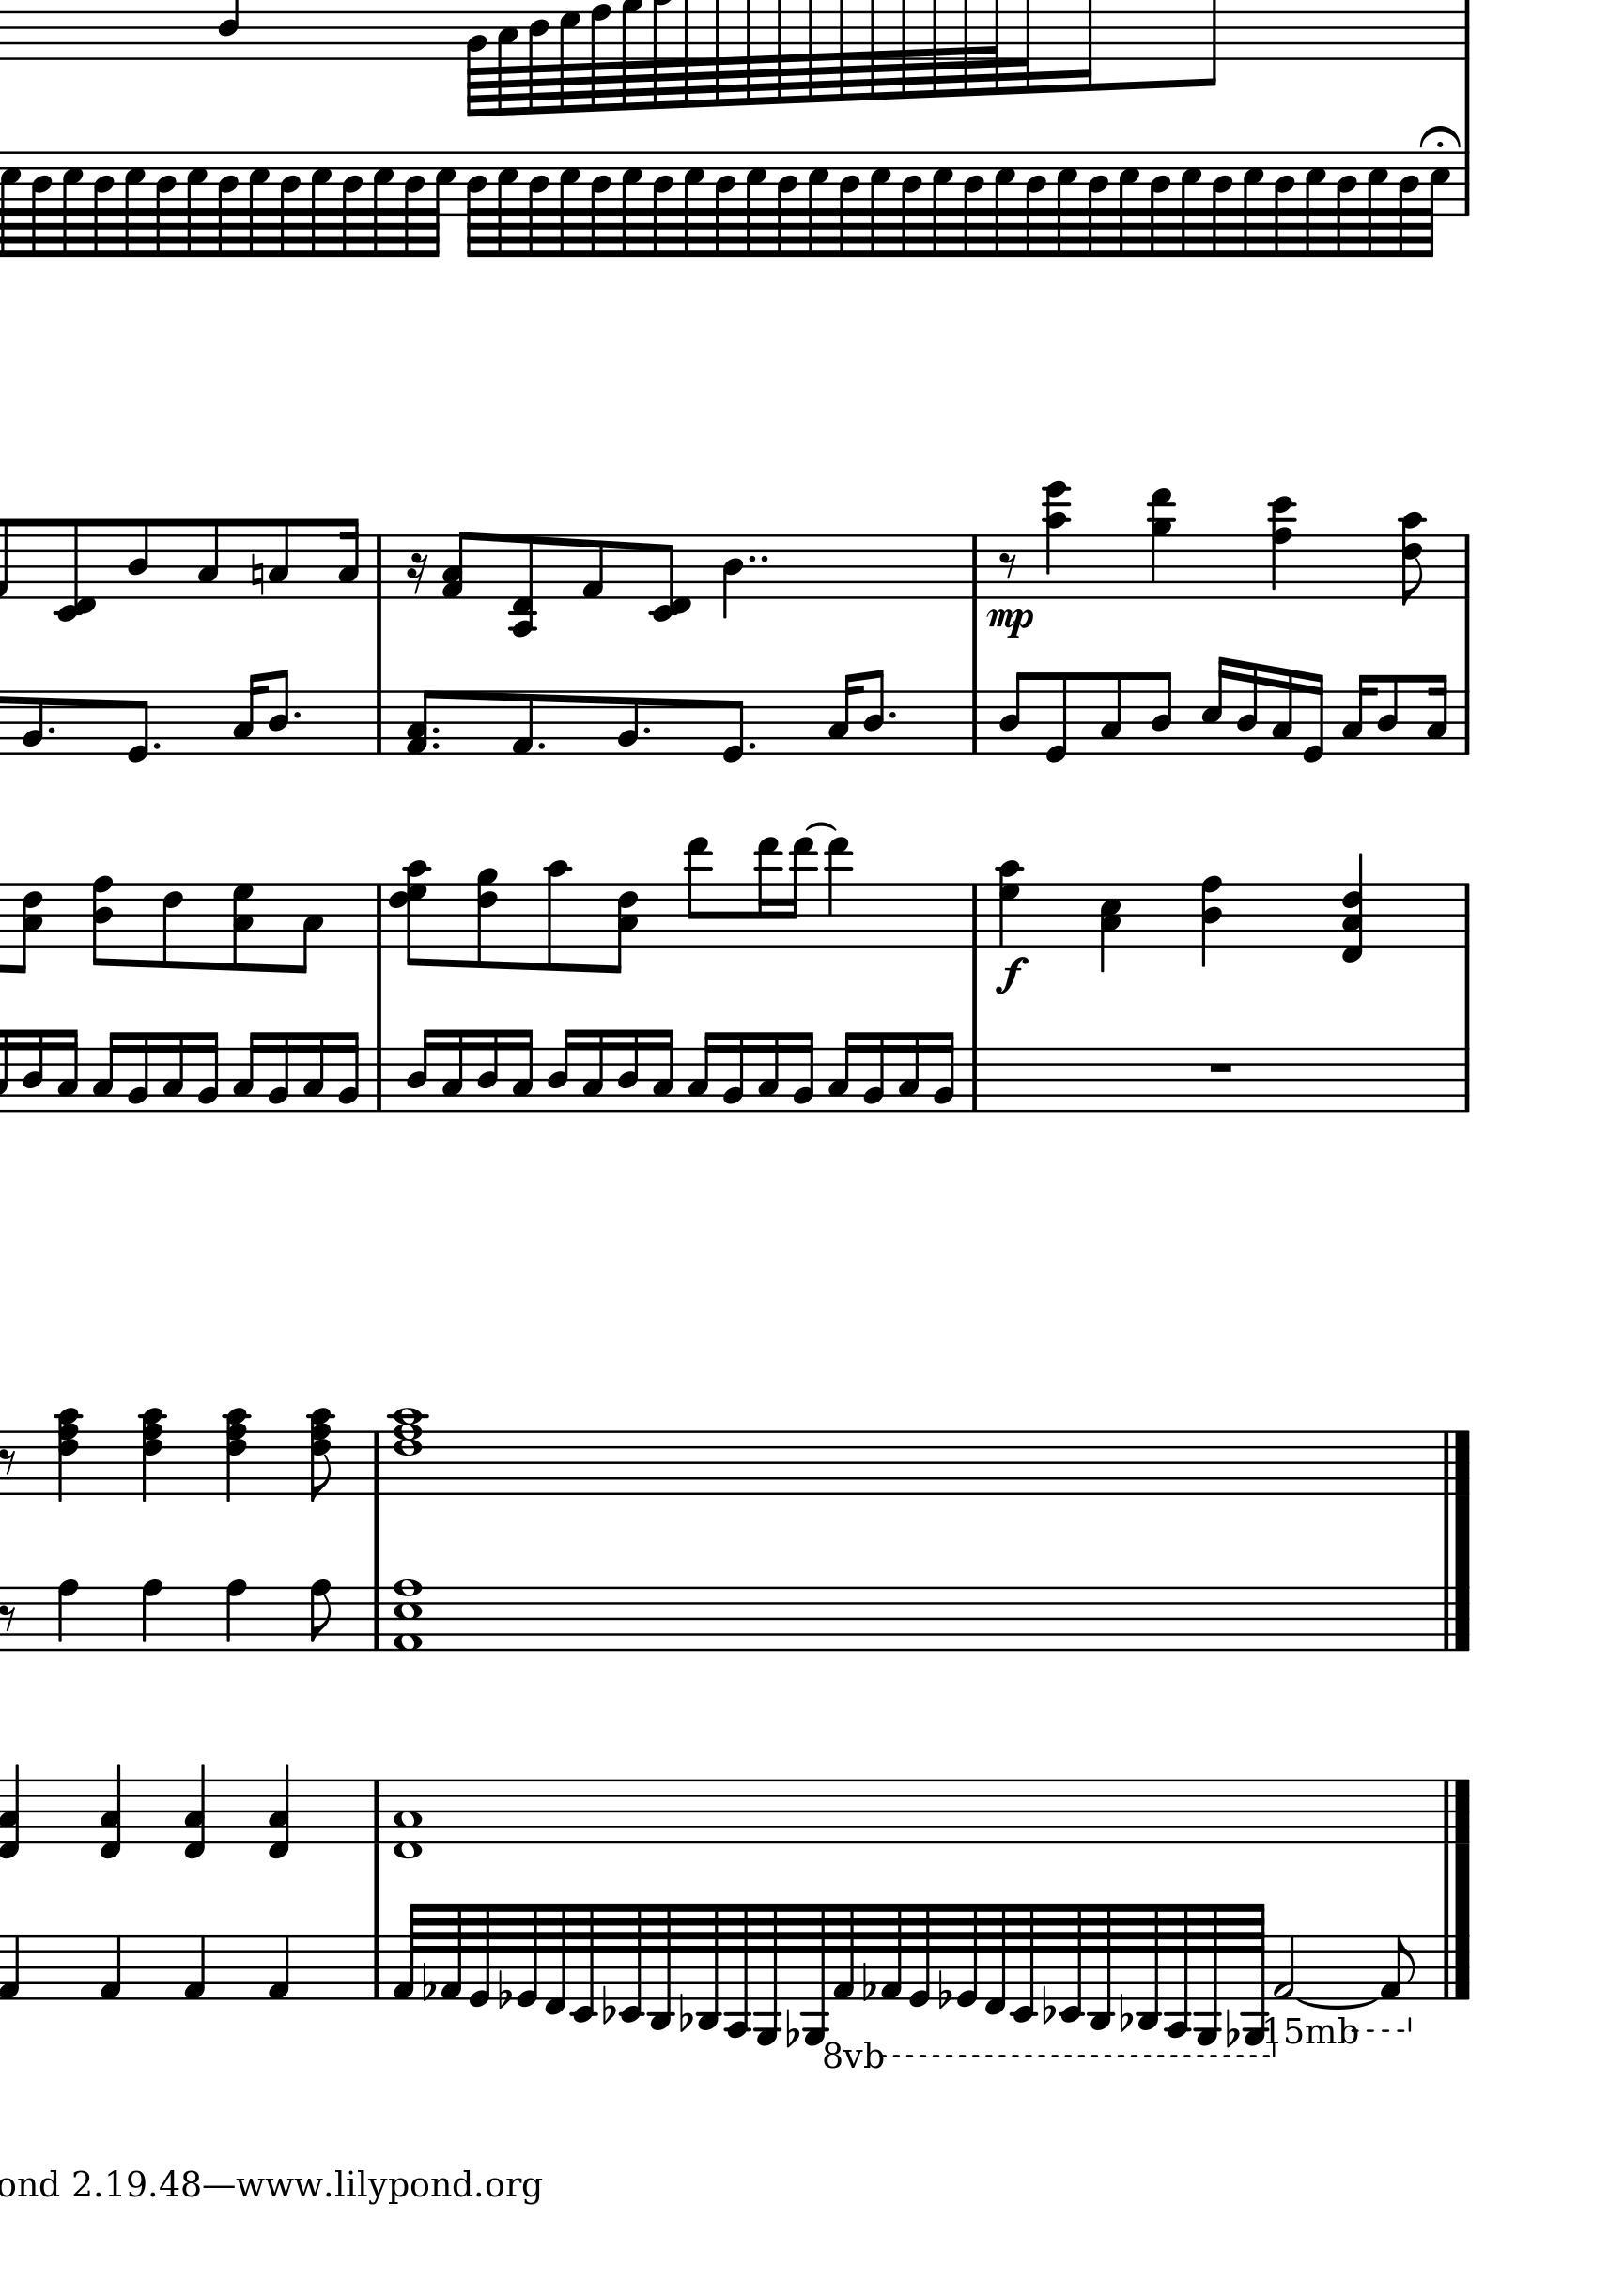16_0: (1299, 669, 1325, 768)
16_13: (784, 836, 814, 950), (684, 833, 712, 949), (752, 833, 780, 949)
16_2: (719, 1029, 745, 1114), (336, 1029, 360, 1116), (789, 1029, 814, 1116), (125, 1029, 149, 1114), (195, 1029, 220, 1114), (265, 1029, 290, 1114), (932, 1029, 954, 1116), (861, 1029, 884, 1114)
16_3: (824, 671, 863, 755), (228, 671, 265, 755), (1339, 671, 1376, 755), (824, 1028, 856, 1114), (228, 1029, 260, 1112), (90, 1029, 120, 1114), (685, 1029, 715, 1112), (508, 1028, 534, 1116), (1269, 664, 1294, 757), (754, 1029, 780, 1114), (439, 1026, 464, 1114), (1424, 671, 1448, 757), (53, 1028, 77, 1114), (580, 1028, 605, 1114), (649, 1028, 673, 1114), (160, 1029, 185, 1114), (896, 1029, 921, 1114), (299, 1029, 323, 1112), (336, 516, 359, 601)
16_4: (402, 1026, 434, 1114), (545, 1026, 575, 1112), (1236, 659, 1258, 757), (475, 1026, 499, 1114), (615, 1026, 640, 1114), (21, 1026, 44, 1114)
16_5: (1199, 655, 1230, 755)
1_-1_3: (390, 1776, 425, 1859)
1_th: (387, 1405, 427, 1497), (390, 1578, 424, 1651)
2_1: (1272, 1936, 1294, 1999)
4_-1_3: (97, 1762, 125, 1860), (181, 1760, 209, 1859), (265, 1760, 294, 1859), (2, 1760, 23, 1860)
4_1: (264, 1934, 290, 2003), (181, 1934, 206, 2003), (97, 1934, 121, 2001), (2, 1934, 21, 2001)
4_10_14: (1040, 480, 1070, 601)
4_13: (823, 834, 851, 949)
4_3_5: (1098, 882, 1123, 975)
4_4: (719, 534, 742, 622)
4_4_8: (1200, 875, 1223, 968)
4_6_10: (1397, 509, 1427, 606)
4_7_12: (995, 857, 1025, 950)
4_8: (54, 1578, 79, 1653), (223, 1578, 248, 1653), (139, 1578, 162, 1653)
4_8_12: (1267, 495, 1297, 603)
4_9_13: (1148, 485, 1178, 601)
4_th: (1339, 852, 1366, 966), (51, 1405, 81, 1502), (137, 1405, 165, 1502), (221, 1405, 250, 1502)
64_-1: (545, 1904, 566, 2015), (984, 1903, 1005, 2013)
64_-2: (617, 1901, 645, 2022), (1007, 1901, 1035, 2022), (1056, 1901, 1084, 2022), (569, 1904, 598, 2024)
64_-3: (645, 1903, 675, 2031), (692, 1903, 722, 2031), (1084, 1901, 1114, 2029), (1132, 1903, 1162, 2031)
64_-4: (724, 1904, 752, 2040), (1164, 1904, 1192, 2040)
64_-5: (1237, 1901, 1267, 2045), (752, 1904, 782, 2047), (800, 1904, 830, 2047), (1192, 1901, 1220, 2045)
64_0: (515, 1903, 538, 2006), (907, 1903, 930, 2006), (954, 1903, 977, 2006), (468, 1904, 490, 2006)
64_1: (392, 1901, 420, 2001), (881, 1903, 903, 1999), (441, 1904, 462, 2001), (833, 1904, 854, 2001)
64_4: (91, 151, 114, 260), (278, 151, 301, 260), (650, 151, 673, 260), (837, 151, 859, 260), (898, 151, 921, 260), (961, 151, 984, 260), (1023, 151, 1046, 260), (1209, 151, 1232, 260), (153, 151, 176, 258), (339, 151, 362, 256), (464, 151, 487, 256), (526, 151, 548, 256), (712, 151, 735, 256), (1084, 151, 1107, 256), (1271, 151, 1294, 256), (1334, 151, 1357, 256), (216, 151, 237, 260), (30, 151, 51, 258), (402, 151, 424, 258), (589, 153, 610, 260), (775, 151, 796, 256), (1148, 151, 1169, 256), (1396, 153, 1417, 256)
64_5: (1422, 151, 1450, 260), (429, 148, 455, 260), (60, 151, 84, 260), (121, 149, 146, 258), (1055, 151, 1079, 260), (1239, 151, 1264, 260), (868, 149, 891, 260), (185, 149, 207, 258), (248, 151, 271, 260), (309, 151, 332, 260), (371, 149, 394, 258), (496, 149, 518, 258), (557, 149, 580, 258), (620, 151, 643, 260), (682, 151, 705, 260), (807, 151, 830, 260), (930, 149, 953, 258), (993, 151, 1016, 260), (1179, 151, 1202, 260), (1302, 149, 1325, 258), (1366, 151, 1388, 260), (743, 151, 766, 258), (1116, 151, 1139, 258), (2, 149, 21, 256)
8_-2_-1: (53, 515, 98, 622), (649, 532, 692, 622)
8_-4_-1: (506, 532, 540, 639)
8_0: (1042, 669, 1069, 766), (125, 689, 151, 766), (719, 689, 745, 764)
8_1: (1376, 1934, 1415, 2001), (508, 689, 534, 757), (580, 534, 603, 601)
8_10: (541, 859, 569, 975)
8_1_3: (439, 529, 473, 603)
8_2: (615, 690, 638, 757), (21, 690, 44, 755)
8_3: (290, 880, 323, 977), (1097, 671, 1121, 755), (195, 518, 220, 601), (265, 518, 290, 601)
8_3_6: (610, 882, 640, 975), (14, 882, 44, 975)
8_3_7: (230, 880, 257, 973)
8_4: (997, 669, 1026, 755), (1376, 673, 1399, 755), (267, 668, 288, 755), (863, 668, 884, 755), (1149, 669, 1171, 755), (127, 518, 148, 601)
8_4_8: (90, 873, 116, 968)
8_6: (158, 880, 183, 971)
8_6_9: (475, 866, 499, 971)
8_8: (306, 1578, 332, 1651)
8_th: (304, 1405, 334, 1504)
Double_dot: (745, 552, 770, 566)
Fermata_above: (1417, 123, 1462, 151)
Final_barline: (1439, 1934, 1469, 2001), (1439, 1428, 1469, 1493), (1439, 1586, 1469, 1651), (1439, 1778, 1469, 1843)
Flat: (1114, 1990, 1134, 2034), (675, 1992, 692, 2036), (782, 2006, 800, 2050), (598, 1987, 615, 2025), (1039, 1987, 1056, 2025), (861, 1960, 877, 2003), (496, 1971, 511, 2010), (1223, 2006, 1237, 2048), (935, 1973, 951, 2010), (420, 1960, 434, 2001)
Natural: (248, 550, 264, 599)
Rests1: (1206, 1059, 1236, 1077)
Rests16: (404, 550, 429, 597)
Rests8: (997, 550, 1018, 580), (2, 1602, 18, 1635), (2, 1448, 18, 1477)
Single_barline: (367, 884, 390, 947), (961, 1049, 984, 1112), (367, 534, 388, 599), (1455, 690, 1476, 755), (366, 1586, 387, 1651), (963, 536, 984, 599), (965, 884, 986, 947), (1455, 884, 1476, 947), (367, 1049, 388, 1112), (1455, 1049, 1476, 1112), (366, 1781, 387, 1843), (1455, 534, 1475, 599), (1455, 2, 1476, 60), (369, 690, 388, 754), (965, 690, 984, 754), (366, 1432, 385, 1495), (367, 1936, 387, 1999), (1457, 155, 1476, 216)
Slur: (1294, 1997, 1380, 2010), (803, 822, 837, 834)
dot: (638, 722, 652, 740), (149, 738, 163, 755), (290, 708, 304, 724), (534, 738, 548, 754), (745, 738, 759, 754), (884, 708, 898, 722), (429, 724, 441, 738), (46, 724, 56, 740), (429, 740, 441, 752)
f: (993, 956, 1028, 996)
mp: (984, 604, 1035, 639)
